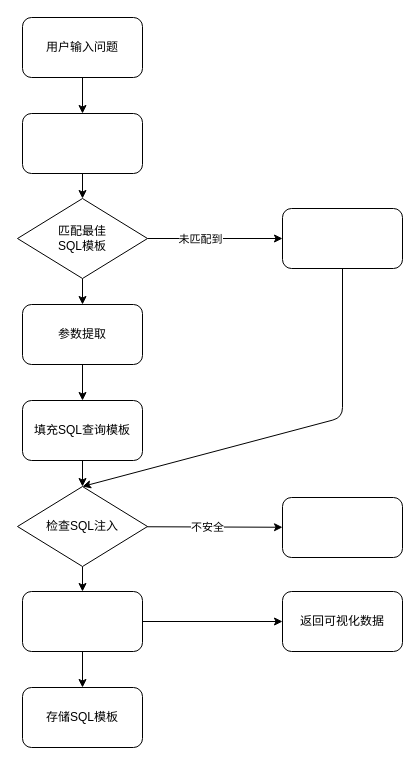
Some shapes in this 420 by 765 pixel diagram are drawn without their labels. The shapes that lost their labels are listed below. From the top down, each one's box as (x1, y1, x2, y2) in pixels, then its label:
(22, 112, 142, 174): 查询余弦相似度 Milvus
(282, 208, 402, 268): 模型生成SQL
(282, 496, 402, 558): 前端报错
(22, 590, 142, 652): 执行SQL
